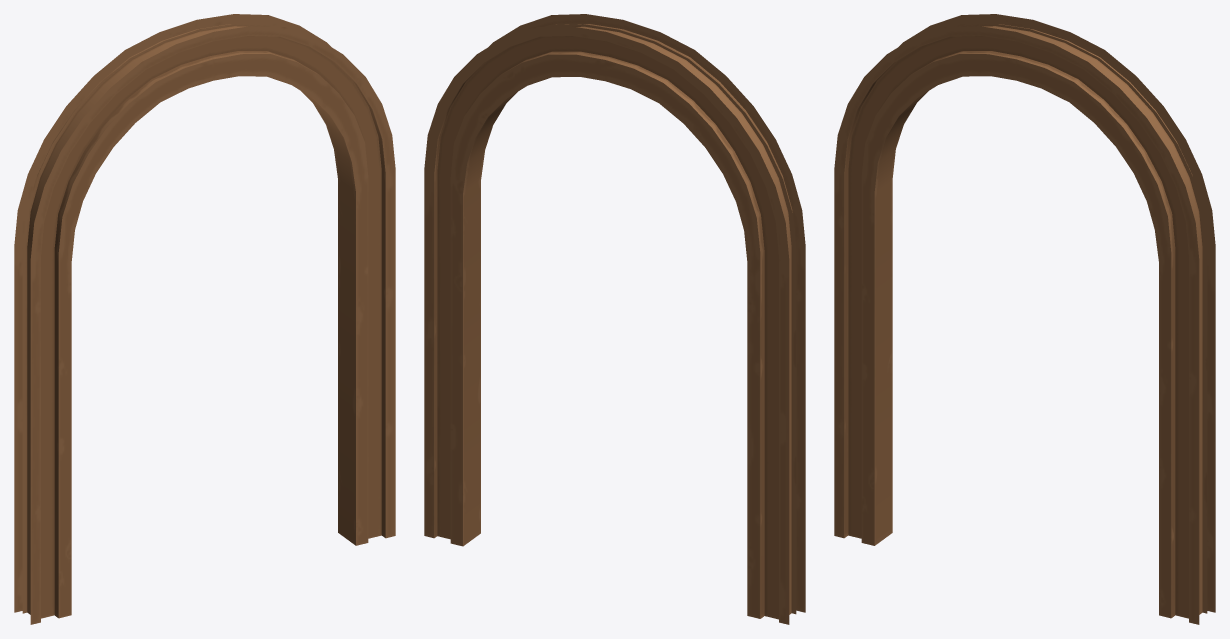
The model's file is ARC0510102.fbx.
The picture shows the model from 3 angles, left to right: view 1: azimuth 30°, elevation 25°; view 2: azimuth 150°, elevation 25°; view 3: azimuth 330°, elevation 25°; orthographic projection.
Visible parts, largest first — view 1: smARC0510102; view 2: smARC0510102; view 3: smARC0510102.
Part boxes in pixels (left/top/right/bottom): smARC0510102: left=14, top=14, right=395, bottom=624; smARC0510102: left=424, top=14, right=805, bottom=624; smARC0510102: left=834, top=14, right=1215, bottom=624.
Size of the model in its own units: 180 by 258 by 15.34.
1 material, 1 textured.
